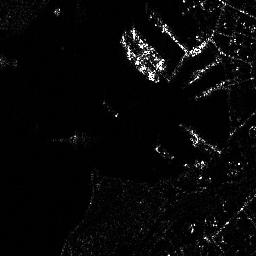ship: (116, 37, 159, 83), (129, 26, 168, 71)
